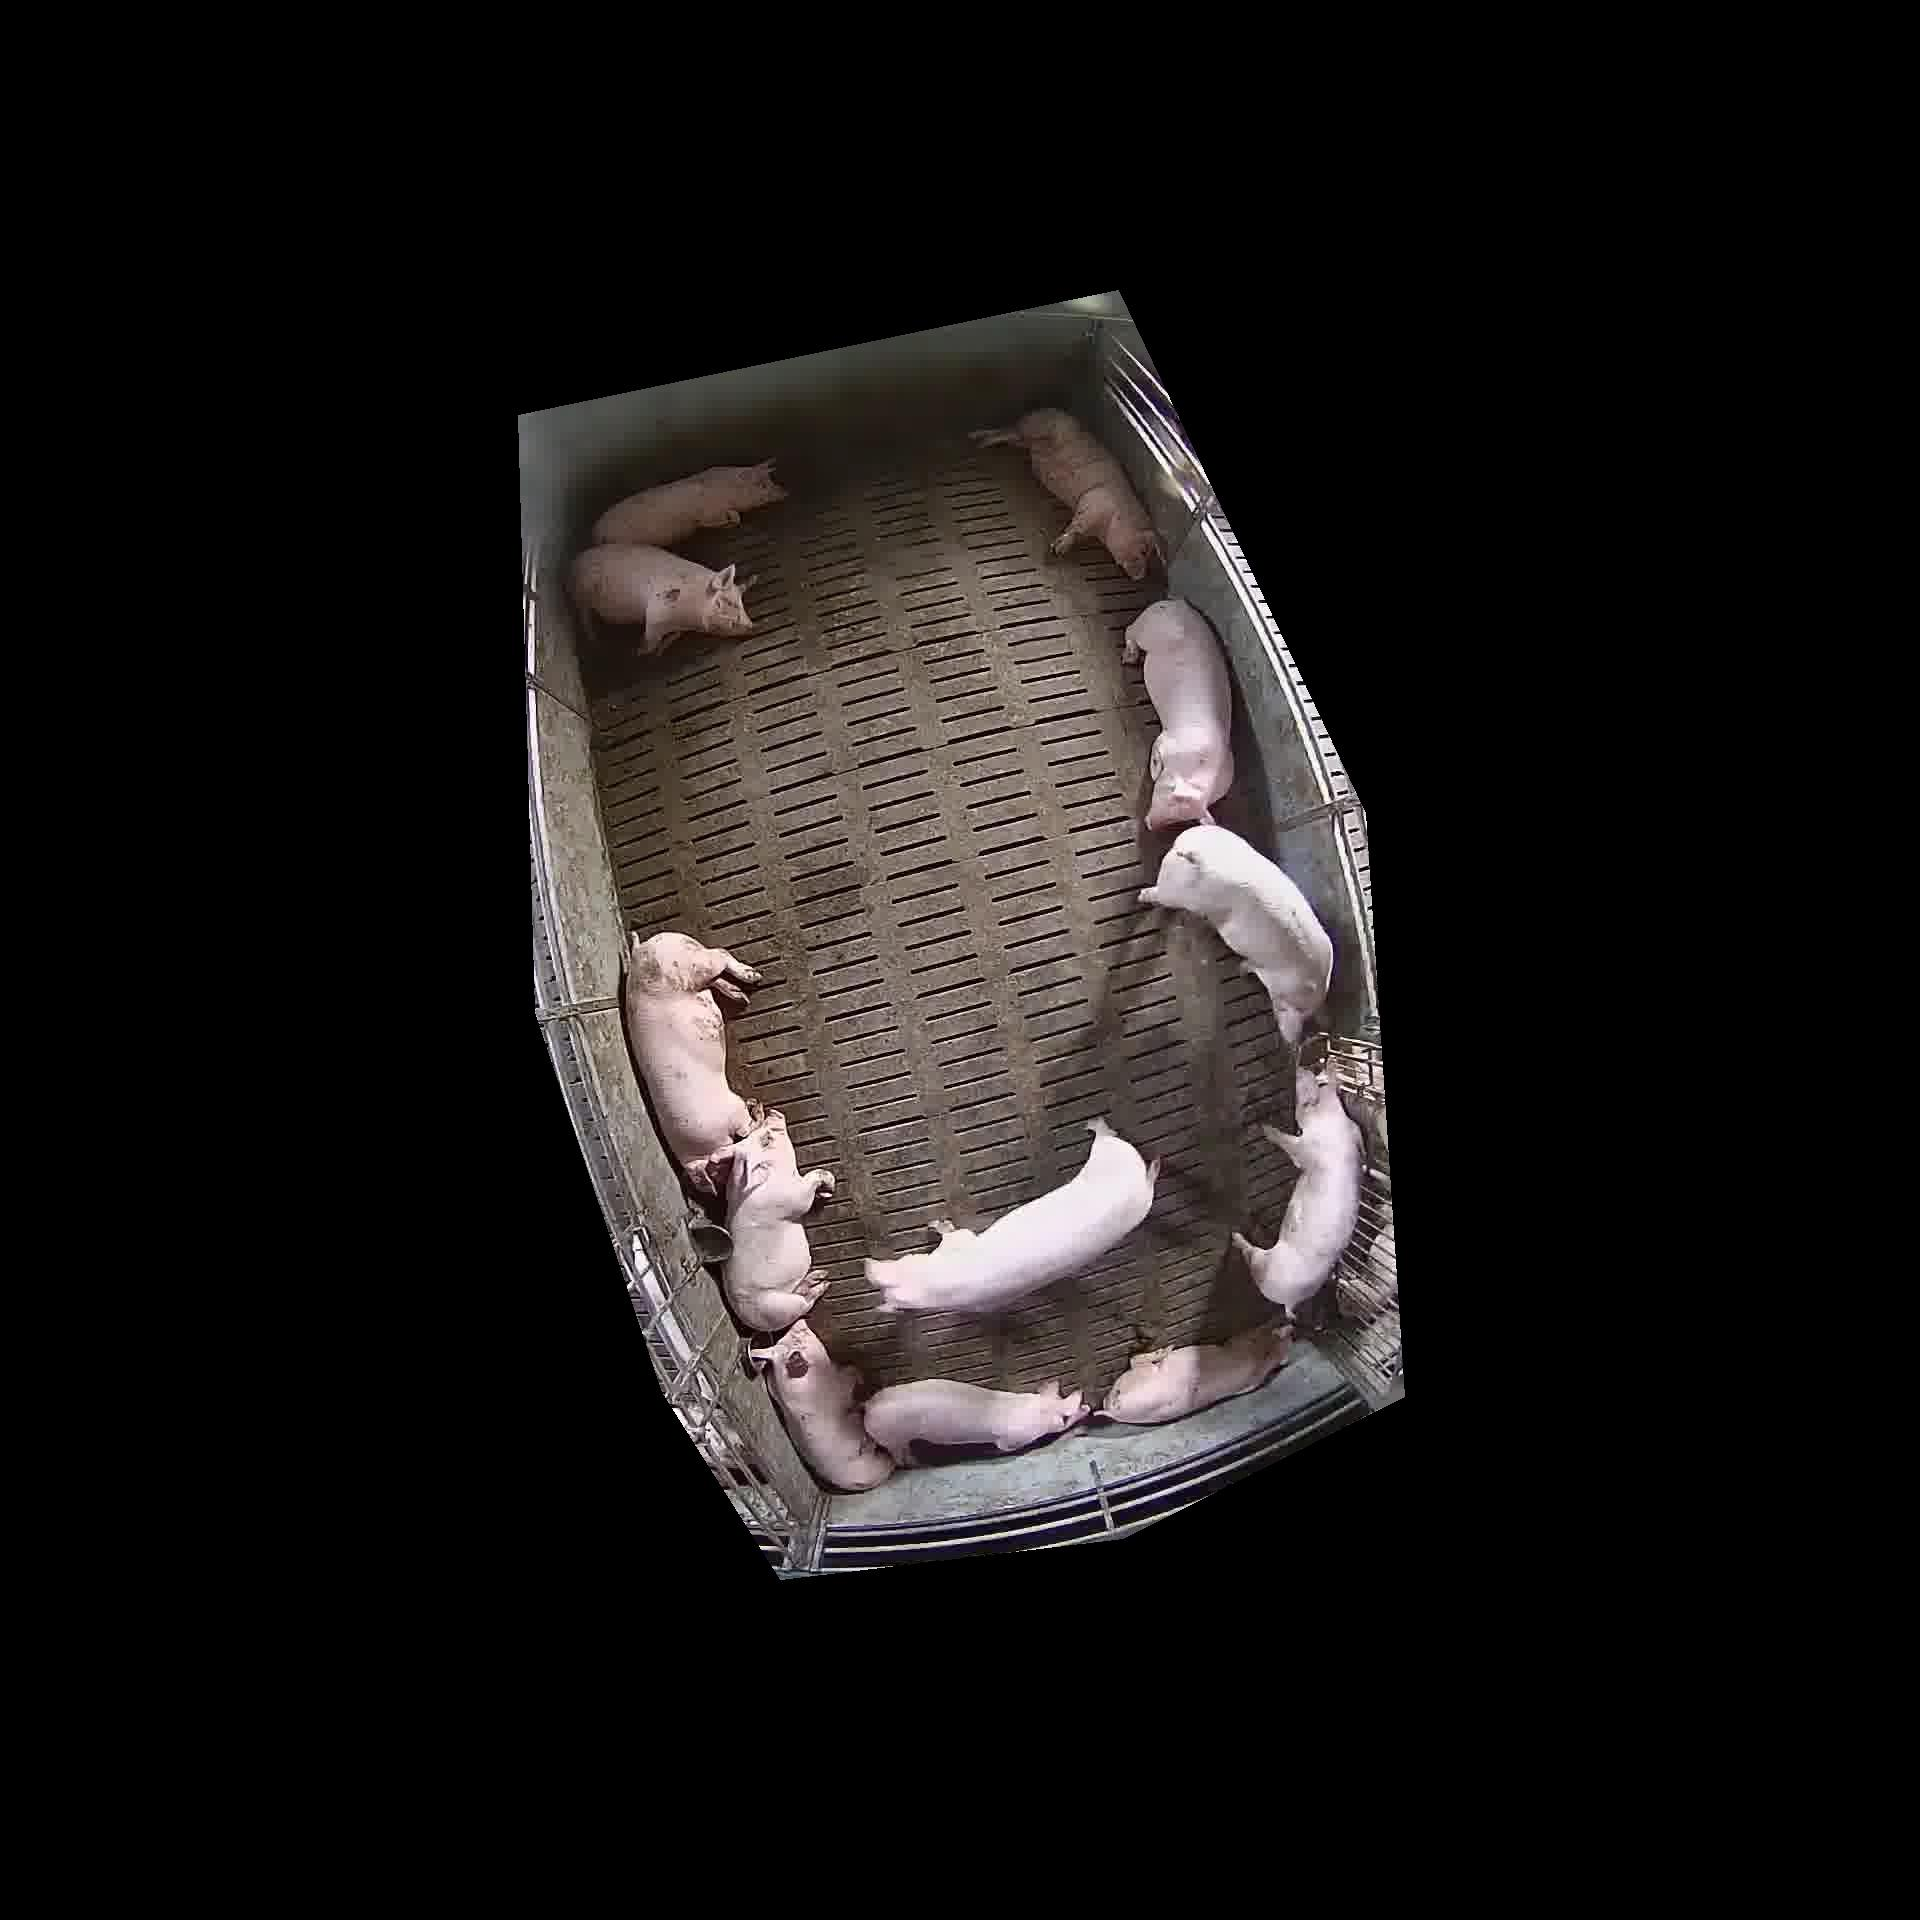pig: (865, 1118, 1159, 1312), (1139, 823, 1333, 1043), (624, 934, 758, 1194), (971, 408, 1159, 578), (1233, 1067, 1361, 1313), (1124, 600, 1233, 828), (749, 1320, 893, 1491), (723, 1111, 833, 1331), (570, 543, 751, 652), (863, 1378, 1088, 1463), (1101, 1326, 1291, 1424), (593, 461, 784, 547)
